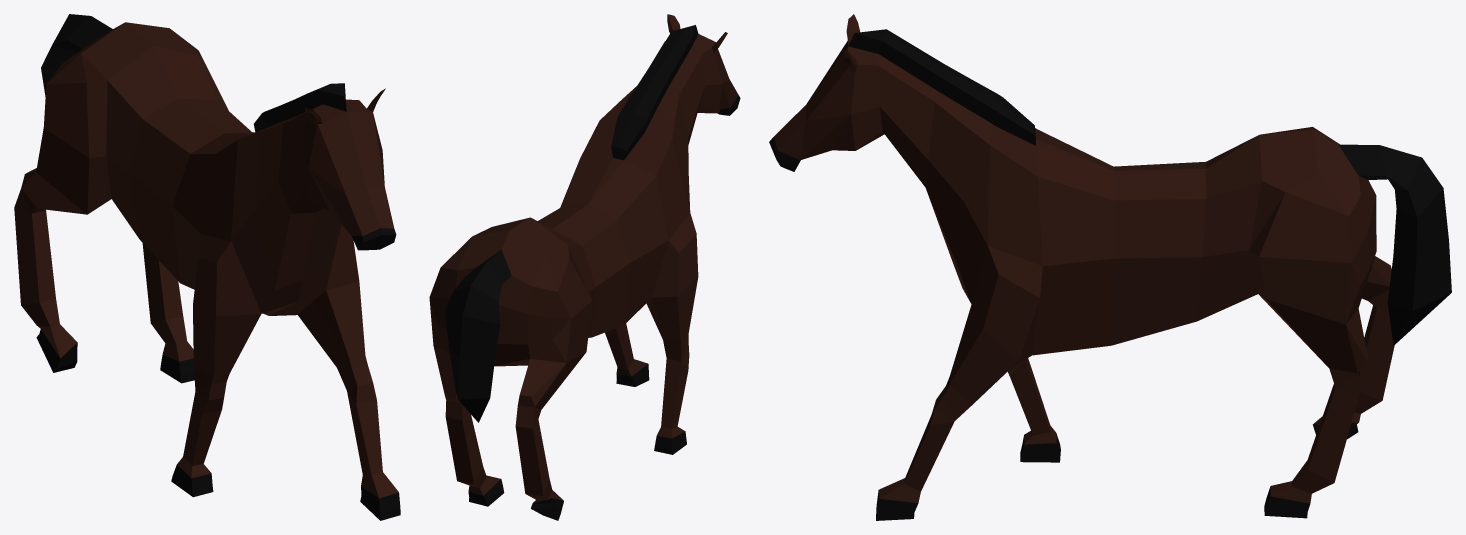
File: Horse_000028.obj
3 renders of one model, left to right at view 1: azimuth 30°, elevation 25°; view 2: azimuth 150°, elevation 25°; view 3: azimuth 270°, elevation 25°, orthographic. The views are drawn at different scales.
Parts seen in each view (by area): view 1: Horse_Cylinder; view 2: Horse_Cylinder; view 3: Horse_Cylinder.
Part boxes in pixels (box(x1,y1,x2,y2)): Horse_Cylinder: box(14, 14, 400, 520); Horse_Cylinder: box(429, 14, 740, 520); Horse_Cylinder: box(769, 14, 1451, 520).
Bounding box in the file's own units: 2.56 × 6.74 × 9.13.
